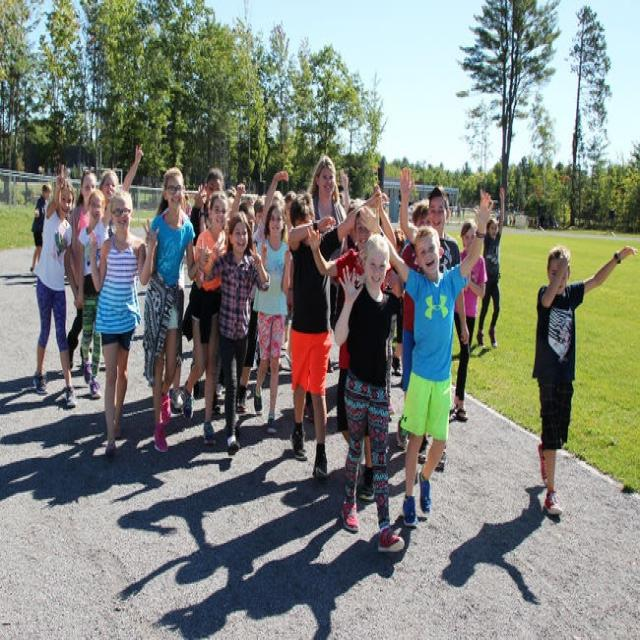body: (0, 372, 432, 638), (358, 190, 493, 530), (531, 246, 639, 517), (305, 203, 400, 504), (286, 187, 383, 480), (331, 230, 406, 556), (396, 164, 471, 473), (140, 164, 211, 453), (86, 187, 160, 458), (73, 141, 145, 399), (197, 209, 270, 452), (437, 482, 560, 605), (178, 191, 230, 449), (32, 159, 82, 408), (248, 197, 293, 434), (396, 200, 431, 458), (453, 217, 489, 423), (64, 165, 98, 372), (188, 167, 301, 220), (473, 184, 505, 350), (307, 153, 348, 234), (252, 338, 342, 373), (340, 170, 388, 226), (29, 181, 53, 279), (447, 199, 519, 226), (98, 168, 121, 206), (176, 343, 195, 373)
